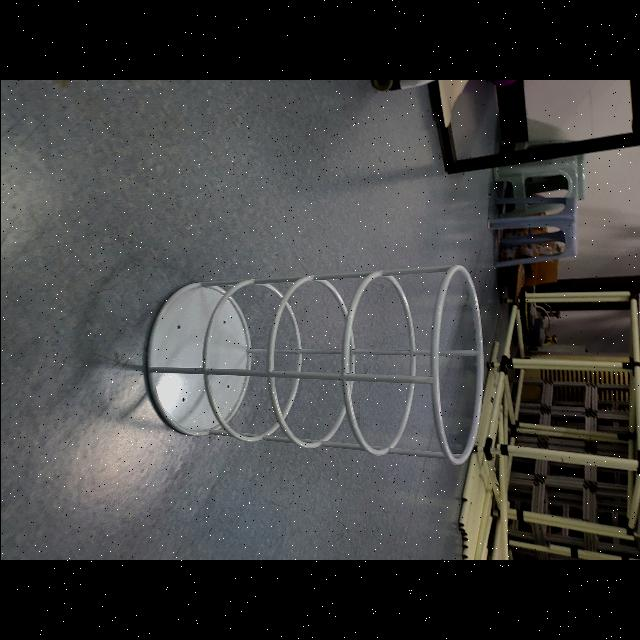S: (143, 264, 484, 468)
